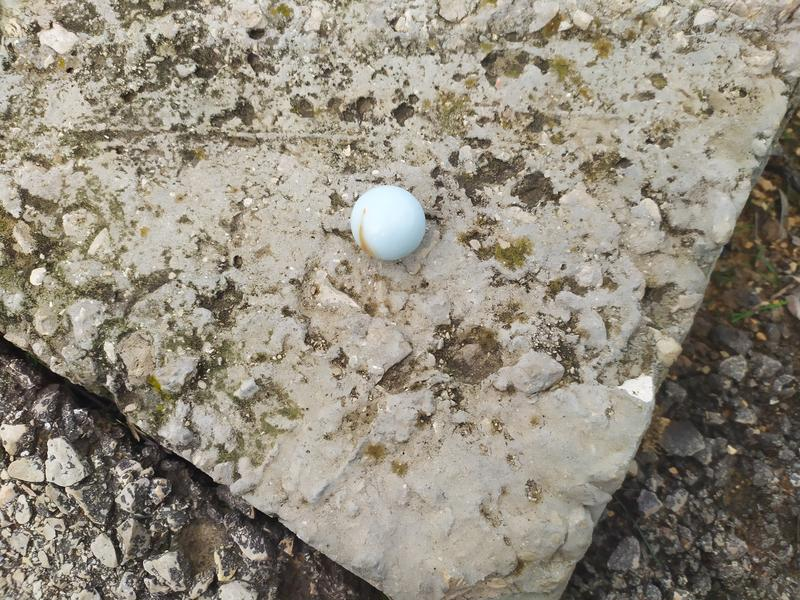Warning: (349, 183, 428, 263)
